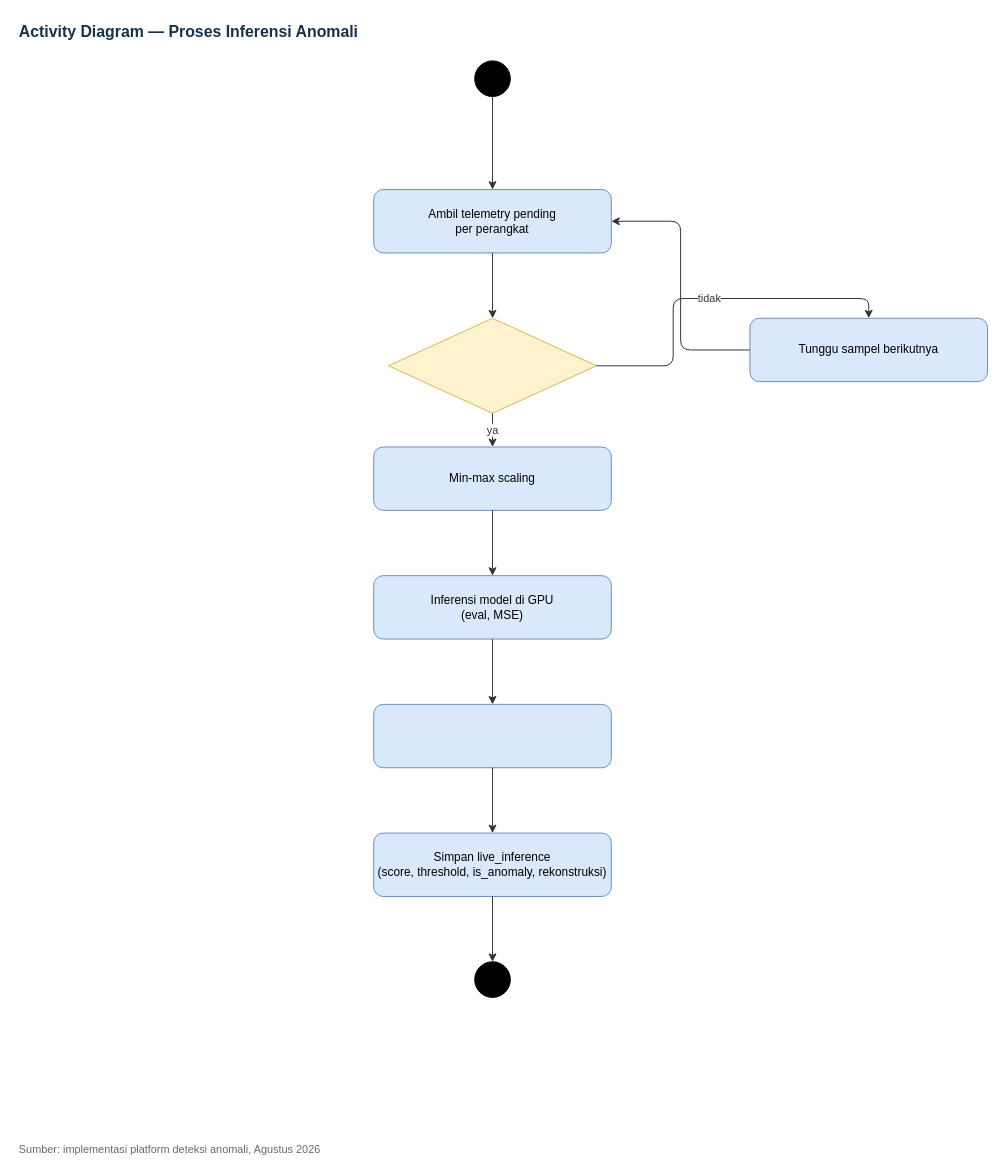
This 1005x1176 diagram has some shape labels left out. The centre of each missing label's shape, as x and y in pixels:
"Hitung score, bandingkan threshold (titik P99.5)" goes at (x=492, y=735).
"Window lengkap & kontinu? (10 x 2 kanal)" goes at (x=492, y=365).
